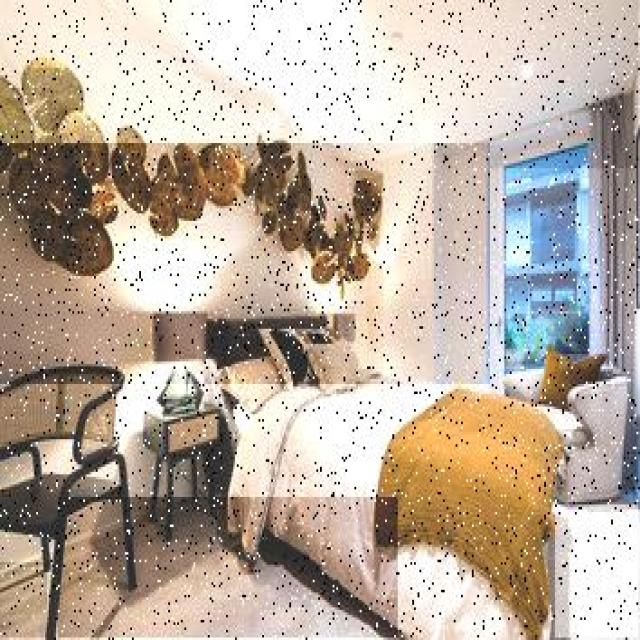Wall: (0, 146, 490, 384), (124, 1, 640, 168), (0, 0, 362, 231), (59, 499, 396, 637), (556, 505, 640, 637), (0, 562, 47, 637)
